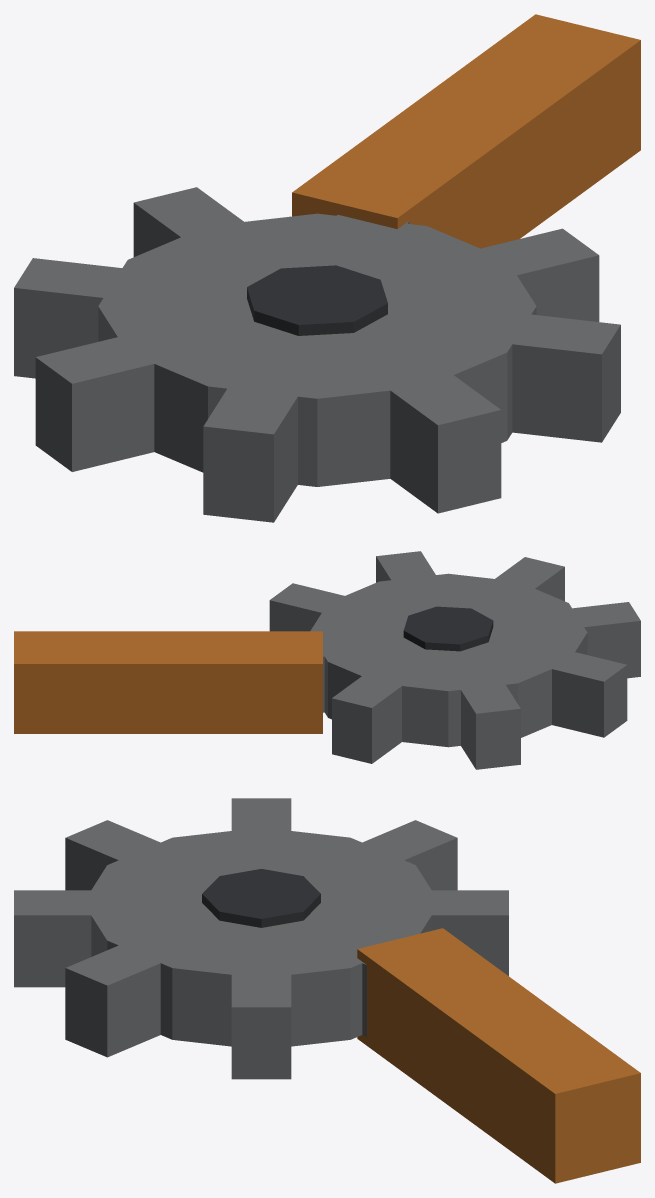
Rendered from Item_Parts.fbx.
The picture shows the model from 3 angles, top to bottom: view 1: azimuth 30°, elevation 25°; view 2: azimuth 150°, elevation 25°; view 3: azimuth 270°, elevation 25°; orthographic projection. The views are drawn at different scales.
Parts seen in each view (by area): view 1: Item_Parts; view 2: Item_Parts; view 3: Item_Parts.
Boxes of the visible parts, x1,y1,x2,y2 form: Item_Parts: (14,14,640,522); Item_Parts: (14,551,640,769); Item_Parts: (14,798,640,1183).
Bounding box in the file's own units: 0.3641 × 0.05 × 0.3167.
